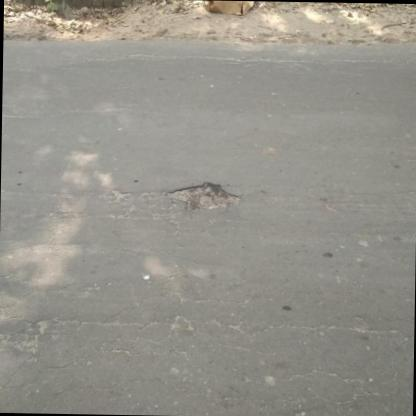pothole: (162, 179, 242, 213)
